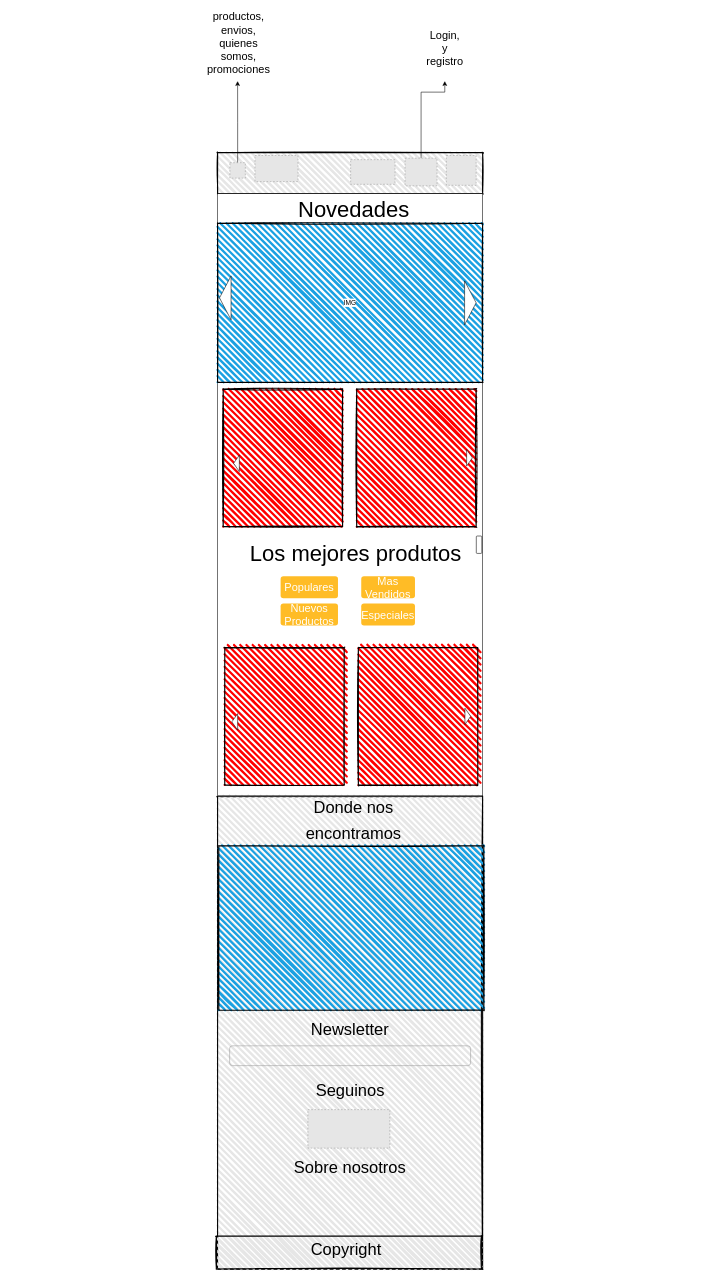
The diagram is 728 pixels wide and 1279 high, and some of its shapes have lost their labels. Grey dashed boxes stand in for pictures. Here are the shapes that lost their labels. From the top down, the centre of each, then its label:
At point 351,927: "Google map".
At point 350,1055: "Email".
